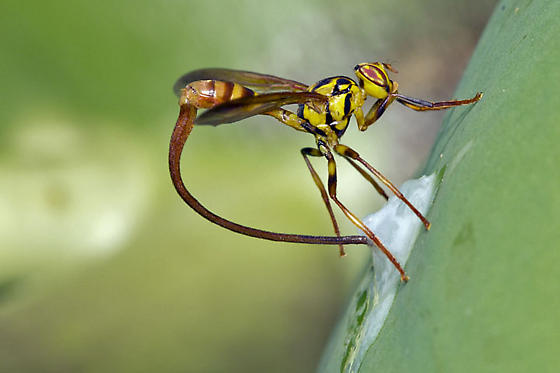Fruit fly: (155, 57, 444, 278)
